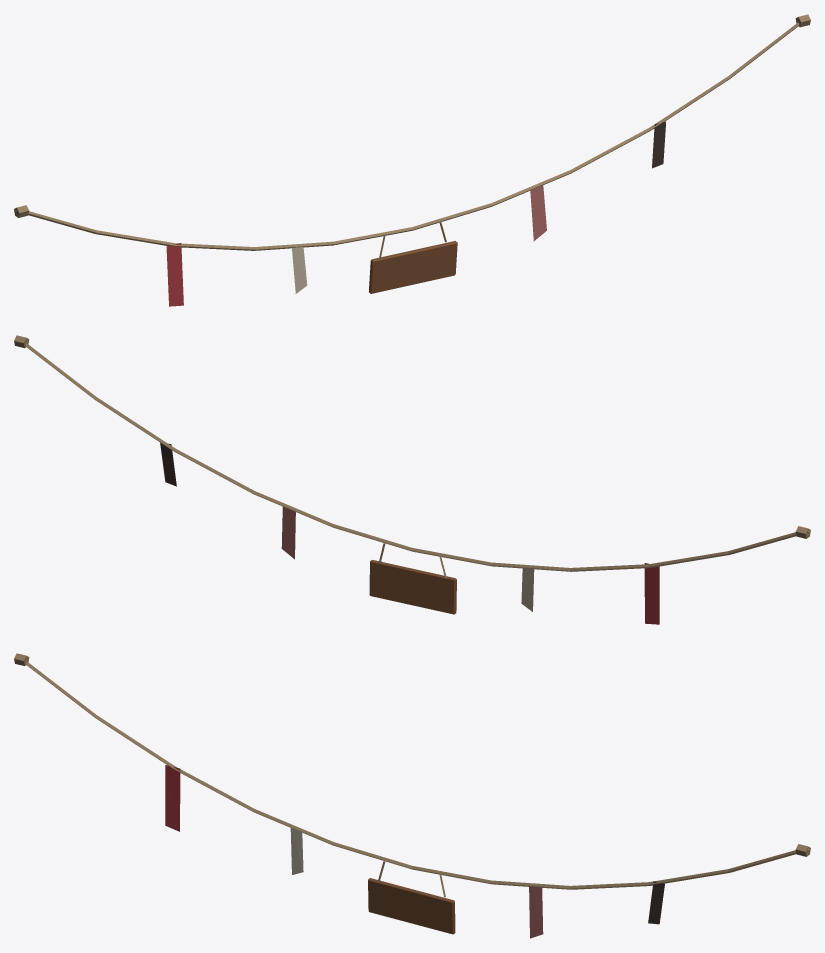
The model's file is tl_furn_rope_cordon_v01.glb.
3 renders of one model, top to bottom at view 1: azimuth 30°, elevation 25°; view 2: azimuth 150°, elevation 25°; view 3: azimuth 330°, elevation 25°, orthographic.
Visible parts, largest first — view 1: tl_furn_rope_cordon_v01; view 2: tl_furn_rope_cordon_v01; view 3: tl_furn_rope_cordon_v01.
Part boxes in pixels (left/top/right/bottom): tl_furn_rope_cordon_v01: left=14, top=14, right=810, bottom=306; tl_furn_rope_cordon_v01: left=14, top=335, right=810, bottom=624; tl_furn_rope_cordon_v01: left=14, top=653, right=810, bottom=938.
Bounding box in the file's own units: 4.81 × 1.01 × 0.0571.
